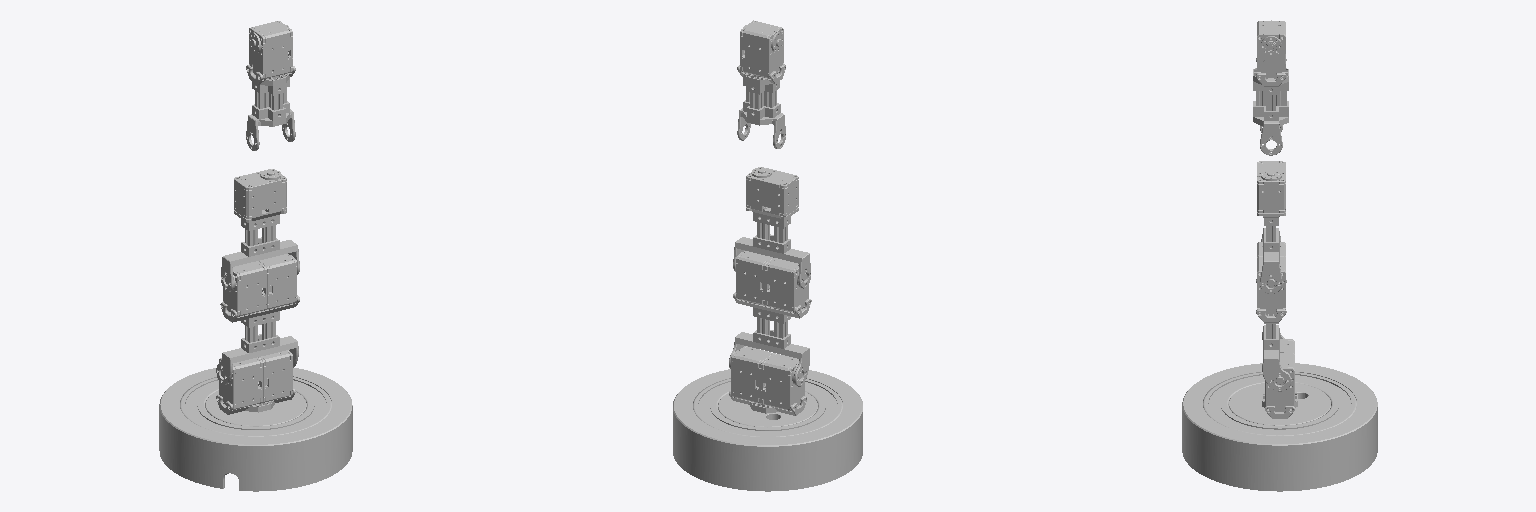
The robot description file, URDF, robot "clsrobo_44550":
<?xml version="1.0" ?>
<robot name="clsrobo_44550" xmlns:xacro="http://www.ros.org/wiki/xacro">

    <material name="silver">
        <color rgba="0.8 0.8 0.8 1.000"/>
    </material>

    <!-->Link Tags Go Here<-->
    
<link name="0_link">
        <inertial>
            <origin rpy="0 0 0" xyz="0.00003821186809 -0.00030983086283 0.01875604321375"/>
            <mass value="2.07110000000000"/>
            <inertia ixx="3.64188928305714" ixy="0.00000514769757" ixz="0.00000085409818" iyy="3.64187376134656" iyz="0.00000286492593" izz="0.01059796903767"/>
        </inertial>
        <visual>
            <origin rpy="0 0 0" xyz="0 0 0"/>
            <geometry>
                <mesh filename="package://clsrobo_44550_description/meshes/0_link.stl" scale="0.001 0.001 0.001"/>
            </geometry>
            <material name="silver"/>
        </visual>
        <collision>
            <origin rpy="0 0 0" xyz="0 0 0"/>
            <geometry>
                <mesh filename="package://clsrobo_44550_description/meshes/0_link.stl" scale="0.001 0.001 0.001"/>
            </geometry>
        </collision>
    </link>

<link name="1_link">
        <inertial>
            <origin rpy="0 0 0" xyz="0.00012843477802 -0.00014275664176 0.02077775078681"/>
            <mass value="0.22750000000000"/>
            <inertia ixx="0.00019717203900" ixy="-0.00000059205455" ixz="0.00000047245861" iyy="0.00024035701003" iyz="-0.00000052463206" izz="0.00022140776924"/>
        </inertial>
        <visual>
            <origin rpy="0 0 0" xyz="0 0 0"/>
            <geometry>
                <mesh filename="package://clsrobo_44550_description/meshes/1_link.stl" scale="0.001 0.001 0.001"/>
            </geometry>
            <material name="silver"/>
        </visual>
        <collision>
            <origin rpy="0 0 0" xyz="0 0 0"/>
            <geometry>
                <mesh filename="package://clsrobo_44550_description/meshes/1_link.stl" scale="0.001 0.001 0.001"/>
            </geometry>
        </collision>
    </link>

<link name="2_link">
        <inertial>
            <origin rpy="0 0 0" xyz="0.00000000000000 -0.00838803474049 0.08282819822599"/>
            <mass value="0.14329100000000"/>
            <inertia ixx="0.00010530228200" ixy="-0.00000000491200" ixz="0.00000000000000" iyy="0.00015656867237" iyz="0.00000102191632" izz="0.00006780760963"/>
        </inertial>
        <visual>
            <origin rpy="0 0 0" xyz="0 0 0"/>
            <geometry>
                <mesh filename="package://clsrobo_44550_description/meshes/2_link.stl" scale="0.001 0.001 0.001"/>
            </geometry>
            <material name="silver"/>
        </visual>
        <collision>
            <origin rpy="0 0 0" xyz="0 0 0"/>
            <geometry>
                <mesh filename="package://clsrobo_44550_description/meshes/2_link.stl" scale="0.001 0.001 0.001"/>
            </geometry>
        </collision>
    </link>

<link name="3_link">
        <inertial>
            <origin rpy="0 0 0" xyz="0.00000000000000 0.00000000000000 0.07176916317835"/>
            <mass value="0.08260900000000"/>
            <inertia ixx="0.00005943562276" ixy="0.00000000789700" ixz="0.00000033247000" iyy="0.00007386462276" iyz="0.00000000906400" izz="0.00002304700000"/>
        </inertial>
        <visual>
            <origin rpy="0 0 0" xyz="0 0 0"/>
            <geometry>
                <mesh filename="package://clsrobo_44550_description/meshes/3_link.stl" scale="0.001 0.001 0.001"/>
            </geometry>
            <material name="silver"/>
        </visual>
        <collision>
            <origin rpy="0 0 0" xyz="0 0 0"/>
            <geometry>
                <mesh filename="package://clsrobo_44550_description/meshes/3_link.stl" scale="0.001 0.001 0.001"/>
            </geometry>
        </collision>
    </link>

<link name="4_link">
        <inertial>
            <origin rpy="0 0 0" xyz="0.00000000000000 0.00000000000000 0.02842285202155"/>
            <mass value="0.06198200000000"/>
            <inertia ixx="0.00001781079875" ixy="0.00000000881800" ixz="-0.00000006923300" iyy="0.00002019079875" iyz="-0.00000000773100" izz="0.00001068200000"/>
        </inertial>
        <visual>
            <origin rpy="0 0 0" xyz="0 0 0"/>
            <geometry>
                <mesh filename="package://clsrobo_44550_description/meshes/4_link.stl" scale="0.001 0.001 0.001"/>
            </geometry>
            <material name="silver"/>
        </visual>
        <collision>
            <origin rpy="0 0 0" xyz="0 0 0"/>
            <geometry>
                <mesh filename="package://clsrobo_44550_description/meshes/4_link.stl" scale="0.001 0.001 0.001"/>
            </geometry>
        </collision>
    </link>

<link name="5_link">
        <inertial>
            <origin rpy="0 0 0" xyz="0.00000000000000 0.00000000000000 0.07204928207526"/>
            <mass value="0.09625800000000"/>
            <inertia ixx="0.00009398436500" ixy="0.00000000881800" ixz="-0.00000006923300" iyy="0.00009756736500" iyz="-0.00000000773100" izz="0.00001666400000"/>
        </inertial>
        <visual>
            <origin rpy="0 0 0" xyz="0 0 0"/>
            <geometry>
                <mesh filename="package://clsrobo_44550_description/meshes/5_link.stl" scale="0.001 0.001 0.001"/>
            </geometry>
            <material name="silver"/>
        </visual>
        <collision>
            <origin rpy="0 0 0" xyz="0 0 0"/>
            <geometry>
                <mesh filename="package://clsrobo_44550_description/meshes/5_link.stl" scale="0.001 0.001 0.001"/>
            </geometry>
        </collision>
    </link>

<link name="6_link">
        <inertial>
            <origin rpy="0 0 0" xyz="0.00000000000000 0.00000000000000 0.07312358554469"/>
            <mass value="0.10133300000000"/>
            <inertia ixx="0.00009620259025" ixy="0.00000000881800" ixz="-0.00000006923300" iyy="0.00009978559025" iyz="-0.00000000773100" izz="0.00001666400000"/>
        </inertial>
        <visual>
            <origin rpy="0 0 0" xyz="0 0 0"/>
            <geometry>
                <mesh filename="package://clsrobo_44550_description/meshes/6_link.stl" scale="0.001 0.001 0.001"/>
            </geometry>
            <material name="silver"/>
        </visual>
        <collision>
            <origin rpy="0 0 0" xyz="0 0 0"/>
            <geometry>
                <mesh filename="package://clsrobo_44550_description/meshes/6_link.stl" scale="0.001 0.001 0.001"/>
            </geometry>
        </collision>
    </link>

<link name="7_link">
        <inertial>
            <origin rpy="0 0 0" xyz="0.00000000000000 0.00000000000000 0.01800000000000"/>
            <mass value="0.00716000000000"/>
            <inertia ixx="0.00000123800000" ixy="-0.00000000020200" ixz="-0.00000000016500" iyy="0.00000283900000" iyz="0.00000012121400" izz="0.00000187100000"/>
        </inertial>
        <visual>
            <origin rpy="0 0 0" xyz="0 0 0"/>
            <geometry>
                <mesh filename="package://clsrobo_44550_description/meshes/7_link.stl" scale="0.001 0.001 0.001"/>
            </geometry>
            <material name="silver"/>
        </visual>
        <collision>
            <origin rpy="0 0 0" xyz="0 0 0"/>
            <geometry>
                <mesh filename="package://clsrobo_44550_description/meshes/7_link.stl" scale="0.001 0.001 0.001"/>
            </geometry>
        </collision>
    </link>


    <!-->Joint Tags Go Here<-->
    
<joint name="joint_0" type="revolute">
        <origin rpy="0 0 0" xyz="0.00000000000000 0.00000000000000 0.04100000000000"/>
        <limit effort="1000.0" lower="-3.14" upper="3.14" velocity="1.0"/>
        <parent link="0_link"/>
        <child link="1_link"/>
        <axis xyz="0.00000000000000 0.00000000000000 1.00000000000000"/>
</joint>


<joint name="joint_1" type="revolute">
        <origin rpy="0 0 0" xyz="0.00000000000000 0.00000000000000 0.05098200000000"/>
        <limit effort="1000.0" lower="-1.57" upper="1.57" velocity="1.0"/>
        <parent link="1_link"/>
        <child link="2_link"/>
        <axis xyz="1.00000000000000 0.00000000000000 0.00000000000000"/>
</joint>


<joint name="joint_2" type="revolute">
        <origin rpy="0 0 0" xyz="0.00000000000000 -0.00847400000000 0.10475000000000"/>
        <limit effort="1000.0" lower="-1.57" upper="1.57" velocity="1.0"/>
        <parent link="2_link"/>
        <child link="3_link"/>
        <axis xyz="-1.00000000000000 0.00000000000000 0.00000000000000"/>
</joint>


<joint name="joint_3" type="revolute">
        <origin rpy="0 0 0" xyz="0.01200000000000 -0.00000000000000 0.10450000000000"/>
        <limit effort="1000.0" lower="-3.14" upper="3.14" velocity="1.0"/>
        <parent link="3_link"/>
        <child link="4_link"/>
        <axis xyz="0.00000000000000 0.00000000000000 1.00000000000000"/>
</joint>


<joint name="joint_4" type="revolute">
        <origin rpy="0 0 0" xyz="-0.00000000000000 0.00000000000000 0.04175000000000"/>
        <limit effort="1000.0" lower="-1.57" upper="1.57" velocity="1.0"/>
        <parent link="4_link"/>
        <child link="5_link"/>
        <axis xyz="-1.00000000000000 0.00000000000000 0.00000000000000"/>
</joint>


<joint name="joint_5" type="revolute">
        <origin rpy="0 0 0" xyz="-0.00000000000000 0.00000000000000 0.10475000000000"/>
        <limit effort="1000.0" lower="-1.57" upper="1.57" velocity="1.0"/>
        <parent link="5_link"/>
        <child link="6_link"/>
        <axis xyz="-1.00000000000000 0.00000000000000 0.00000000000000"/>
</joint>


<joint name="joint_6" type="revolute">
        <origin rpy="0 0 0" xyz="-0.00000000000000 0.00000000000000 0.10475000000000"/>
        <limit effort="1000.0" lower="-1.57" upper="0" velocity="1.0"/>
        <parent link="6_link"/>
        <child link="7_link"/>
        <axis xyz="-1.00000000000000 0.00000000000000 0.00000000000000"/>
</joint>



    <!--Transmissions go here -->
    
<transmission name="joint_0_tran">
  <type>transmission_interface/SimpleTransmission</type>
  <joint name="joint_0">
    <hardwareInterface>hardware_interface/EffortJointInterface</hardwareInterface>
  </joint>
  <actuator name="joint_0_actr">
    <hardwareInterface>hardware_interface/EffortJointInterface</hardwareInterface>
    <mechanicalReduction>1</mechanicalReduction>
  </actuator>
</transmission>


<transmission name="joint_1_tran">
  <type>transmission_interface/SimpleTransmission</type>
  <joint name="joint_1">
    <hardwareInterface>hardware_interface/EffortJointInterface</hardwareInterface>
  </joint>
  <actuator name="joint_1_actr">
    <hardwareInterface>hardware_interface/EffortJointInterface</hardwareInterface>
    <mechanicalReduction>1</mechanicalReduction>
  </actuator>
</transmission>


<transmission name="joint_2_tran">
  <type>transmission_interface/SimpleTransmission</type>
  <joint name="joint_2">
    <hardwareInterface>hardware_interface/EffortJointInterface</hardwareInterface>
  </joint>
  <actuator name="joint_2_actr">
    <hardwareInterface>hardware_interface/EffortJointInterface</hardwareInterface>
    <mechanicalReduction>1</mechanicalReduction>
  </actuator>
</transmission>


<transmission name="joint_3_tran">
  <type>transmission_interface/SimpleTransmission</type>
  <joint name="joint_3">
    <hardwareInterface>hardware_interface/EffortJointInterface</hardwareInterface>
  </joint>
  <actuator name="joint_3_actr">
    <hardwareInterface>hardware_interface/EffortJointInterface</hardwareInterface>
    <mechanicalReduction>1</mechanicalReduction>
  </actuator>
</transmission>


<transmission name="joint_4_tran">
  <type>transmission_interface/SimpleTransmission</type>
  <joint name="joint_4">
    <hardwareInterface>hardware_interface/EffortJointInterface</hardwareInterface>
  </joint>
  <actuator name="joint_4_actr">
    <hardwareInterface>hardware_interface/EffortJointInterface</hardwareInterface>
    <mechanicalReduction>1</mechanicalReduction>
  </actuator>
</transmission>


<transmission name="joint_5_tran">
  <type>transmission_interface/SimpleTransmission</type>
  <joint name="joint_5">
    <hardwareInterface>hardware_interface/EffortJointInterface</hardwareInterface>
  </joint>
  <actuator name="joint_5_actr">
    <hardwareInterface>hardware_interface/EffortJointInterface</hardwareInterface>
    <mechanicalReduction>1</mechanicalReduction>
  </actuator>
</transmission>


<transmission name="joint_6_tran">
  <type>transmission_interface/SimpleTransmission</type>
  <joint name="joint_6">
    <hardwareInterface>hardware_interface/EffortJointInterface</hardwareInterface>
  </joint>
  <actuator name="joint_6_actr">
    <hardwareInterface>hardware_interface/EffortJointInterface</hardwareInterface>
    <mechanicalReduction>1</mechanicalReduction>
  </actuator>
</transmission>




<gazebo>
    <plugin filename="libgazebo_ros_control.so" name="control"/>
</gazebo>

<gazebo reference="0_link">
    <material>Gazebo/Silver</material>
    <mu1>0.2</mu1>
    <mu2>0.2</mu2>
    <selfCollide>true</selfCollide>
    <gravity>true</gravity>
</gazebo>

    
<gazebo reference="1_link">
        <material>Gazebo/Green</material>
        <mu1>0.2</mu1>
        <mu2>0.2</mu2>
        <selfCollide>true</selfCollide>
</gazebo>


<gazebo reference="2_link">
        <material>Gazebo/Green</material>
        <mu1>0.2</mu1>
        <mu2>0.2</mu2>
        <selfCollide>true</selfCollide>
</gazebo>


<gazebo reference="3_link">
        <material>Gazebo/Green</material>
        <mu1>0.2</mu1>
        <mu2>0.2</mu2>
        <selfCollide>true</selfCollide>
</gazebo>


<gazebo reference="4_link">
        <material>Gazebo/Green</material>
        <mu1>0.2</mu1>
        <mu2>0.2</mu2>
        <selfCollide>true</selfCollide>
</gazebo>


<gazebo reference="5_link">
        <material>Gazebo/Green</material>
        <mu1>0.2</mu1>
        <mu2>0.2</mu2>
        <selfCollide>true</selfCollide>
</gazebo>


<gazebo reference="6_link">
        <material>Gazebo/Green</material>
        <mu1>0.2</mu1>
        <mu2>0.2</mu2>
        <selfCollide>true</selfCollide>
</gazebo>


<gazebo reference="7_link">
        <material>Gazebo/Green</material>
        <mu1>0.2</mu1>
        <mu2>0.2</mu2>
        <selfCollide>true</selfCollide>
</gazebo>



</robot>

--- Render facts (derived) ---
Views: 3 orthographic renders of the robot side by side, from view 1: azimuth 30°, elevation 25°; view 2: azimuth 150°, elevation 25°; view 3: azimuth 270°, elevation 25°.
Robot: clsrobo_44550 — 8 links, 7 joints (7 revolute); root link 0_link; default pose: every joint at zero.
Visible links, largest first — view 1: 0_link, 2_link, 1_link, 5_link, 3_link; view 2: 0_link, 2_link, 1_link, 5_link, 3_link; view 3: 0_link, 1_link, 5_link, 3_link, 2_link.
Boxes of the visible links, x1,y1,x2,y2 form: 0_link: (159, 368, 352, 491); 2_link: (216, 254, 299, 384); 1_link: (205, 350, 306, 425); 5_link: (246, 21, 295, 150); 3_link: (221, 169, 299, 291); 0_link: (673, 369, 862, 491); 2_link: (729, 251, 811, 386); 1_link: (718, 346, 817, 426); 5_link: (737, 20, 785, 148); 3_link: (733, 167, 810, 288); 0_link: (1182, 363, 1377, 491); 1_link: (1229, 339, 1330, 425); 5_link: (1253, 20, 1288, 155); 3_link: (1257, 161, 1285, 293); 2_link: (1256, 242, 1291, 391).
Size in the robot's own frame: 0.19 by 0.19 by 0.459 metres.
5 mesh visuals loaded from 8 distinct referenced files (5 binary STL); not drawn: 3 (reference not matched to a file when rendering).